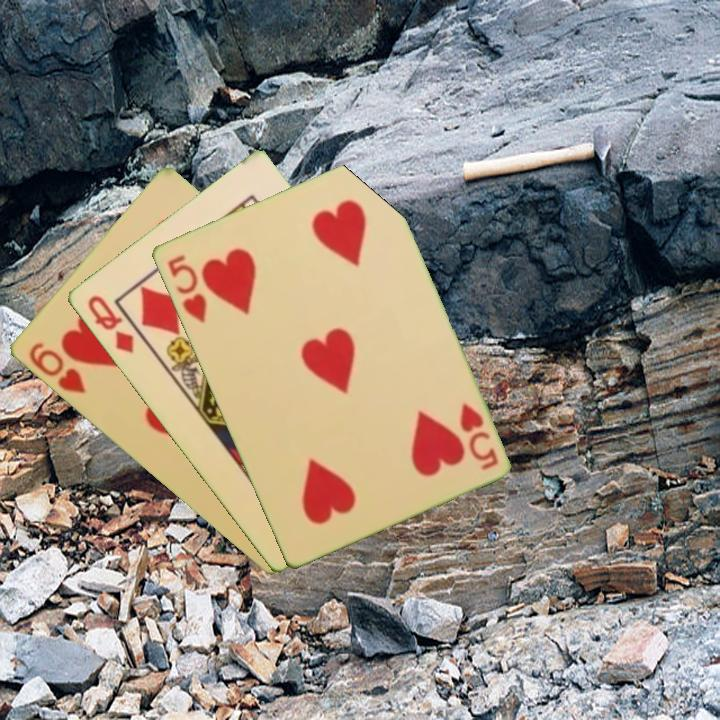5h: (163, 250, 209, 327), (455, 400, 501, 473)
6h: (24, 338, 88, 397)
Qd: (83, 291, 136, 357)
